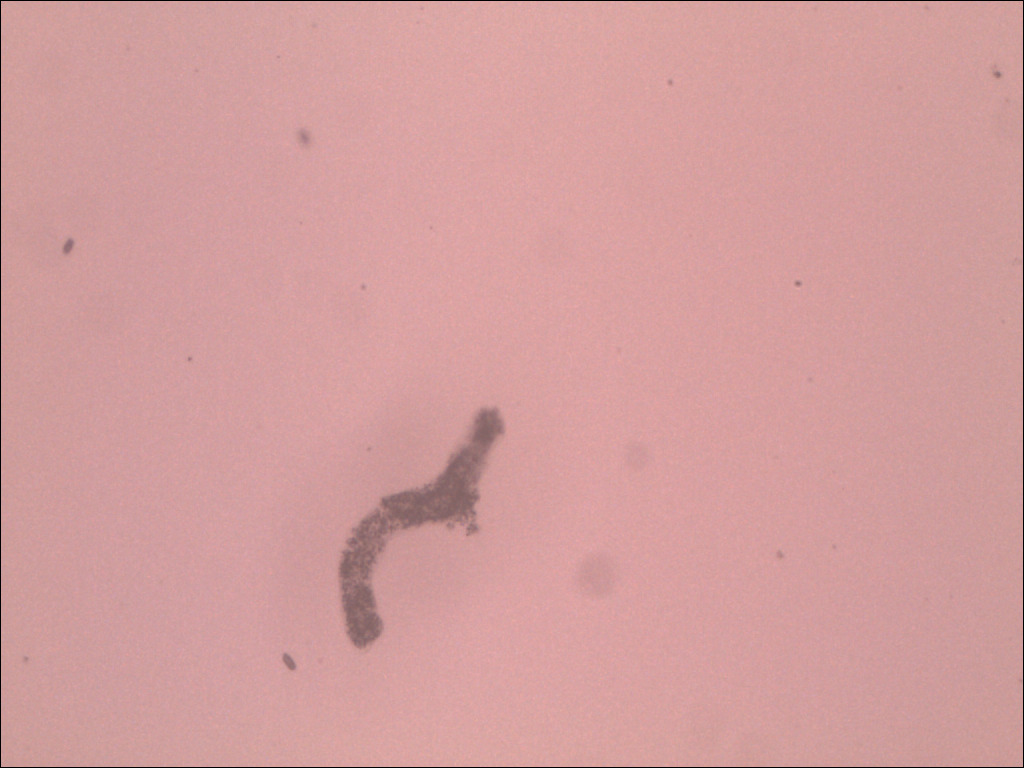amoeba: (326, 397, 526, 661)
